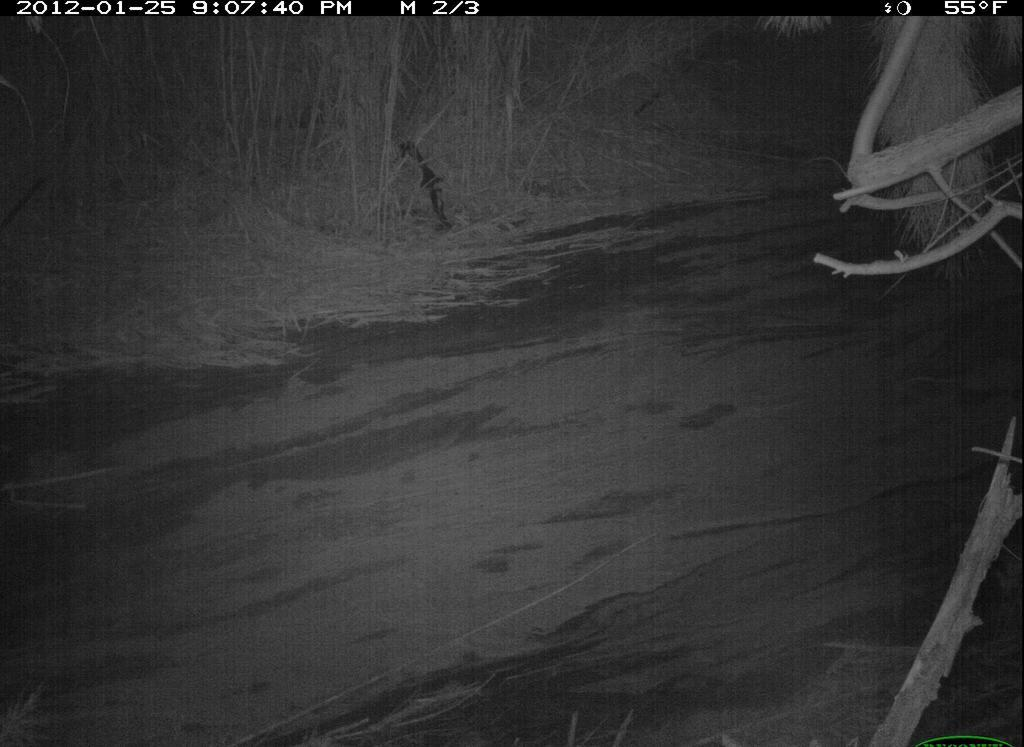opossum: (905, 349, 1023, 418)
